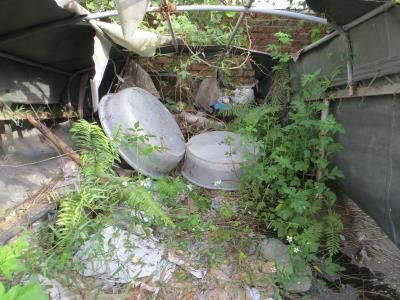bowl: (96, 87, 188, 181), (178, 130, 263, 192)
